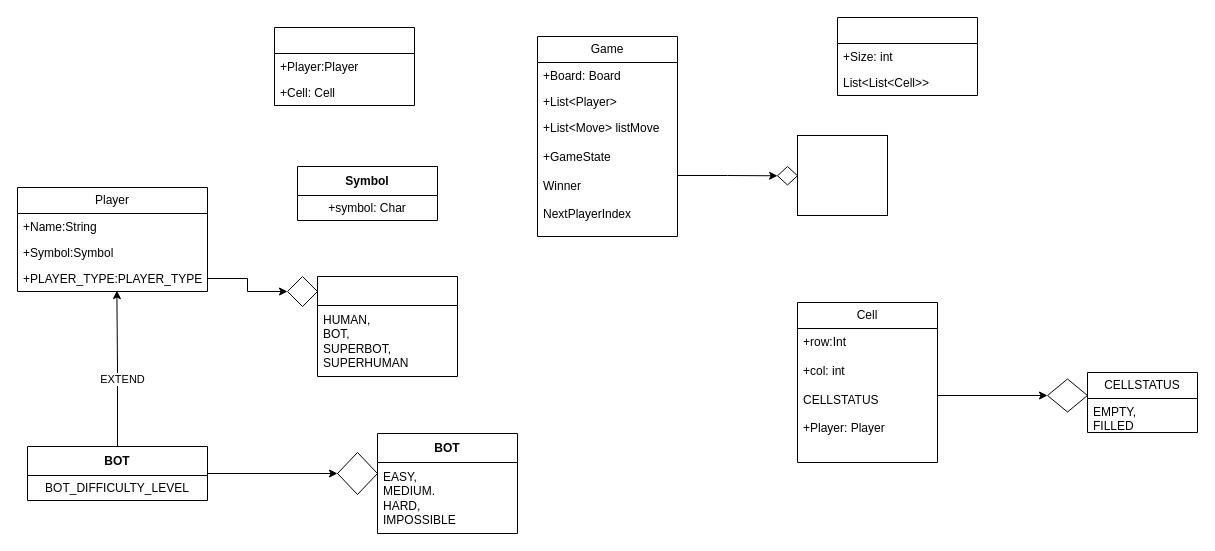
This 1215x551 diagram has some shape labels left out. Here are the shapes that lost their labels. From the top down, the box of each, then its label:
(274, 26, 414, 106): MOVE
(836, 16, 978, 96): Board
(796, 134, 888, 216): GameState IN_PROGRESS, DRAW, ENDED
(316, 276, 458, 376): PLAYER_TYPE
